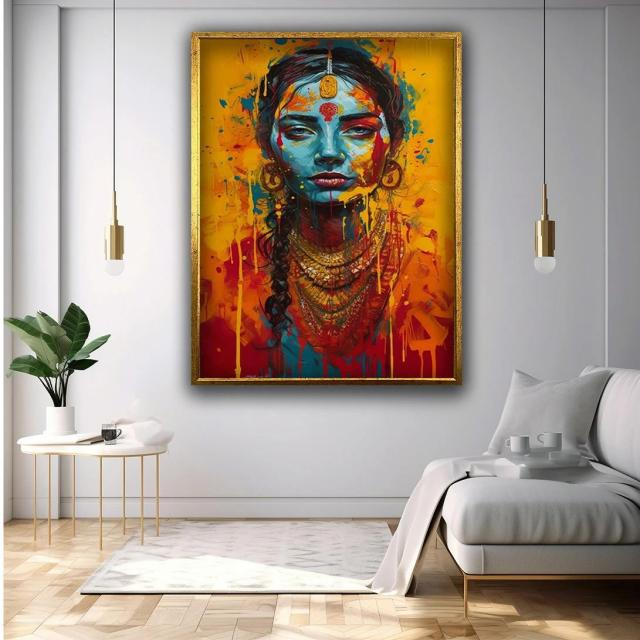painting: (191, 30, 464, 382)
